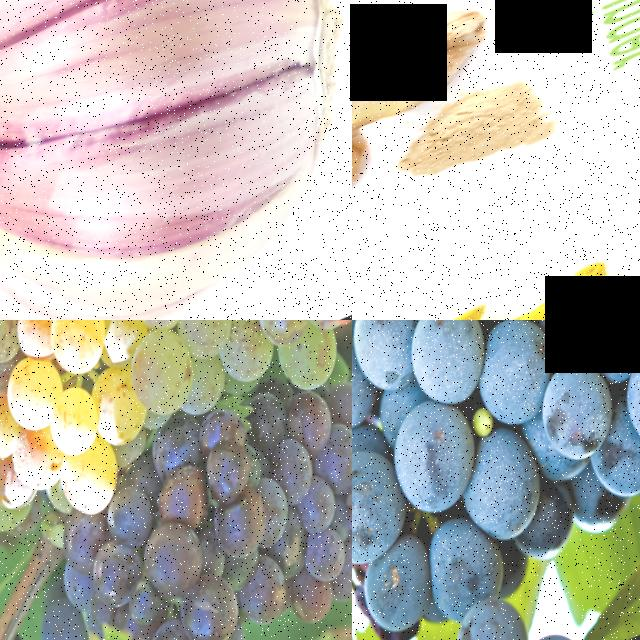garlic: (0, 0, 352, 320)
ginger: (352, 0, 523, 162), (352, 112, 392, 269)
grapes: (352, 320, 640, 640), (39, 348, 352, 640), (0, 320, 303, 588)
